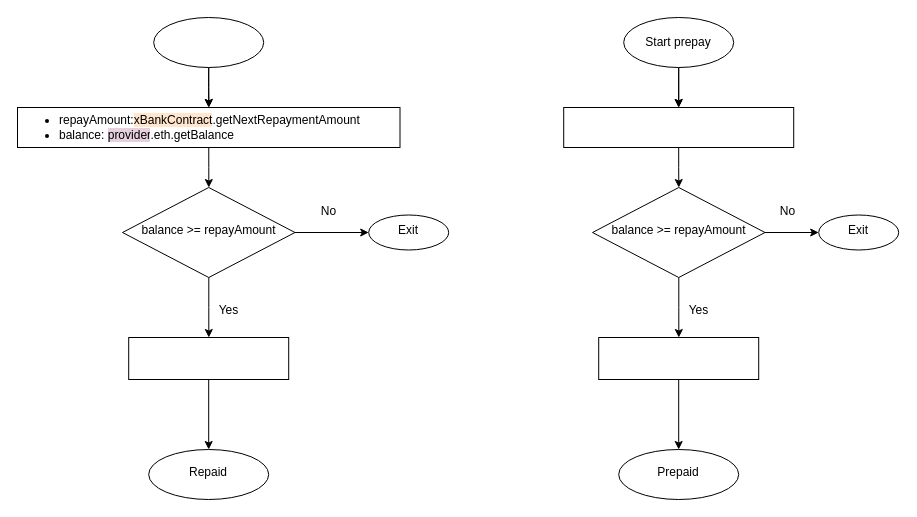
Image size: 917x517. Some labels were removed from this diagram. The centre of each missing label's shape, as x and y in pixels:
"balance: provider .eth.getBalance" goes at [678,127].
"Start repay" goes at [208,42].
"xBankContract .prepayment" goes at [678,358].
"xBankContract .repayLoan" goes at [208,358].
